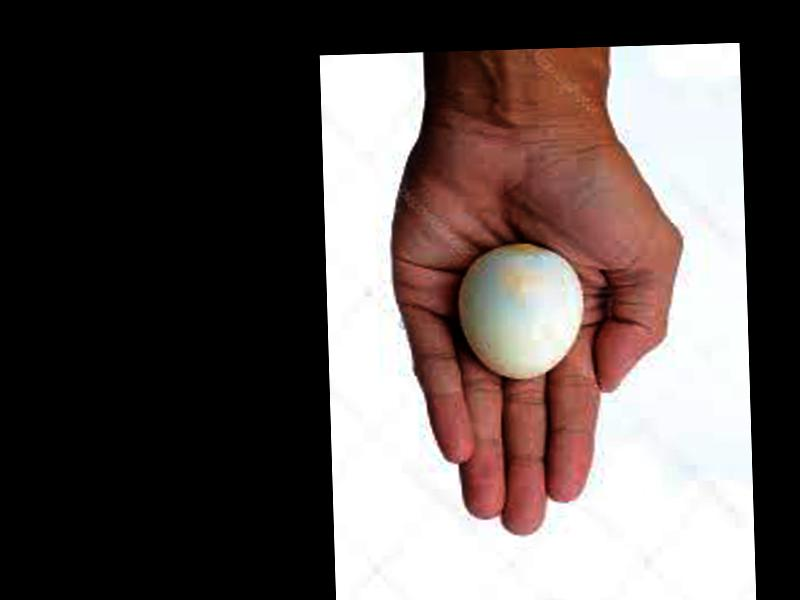Eggs: (458, 242, 583, 383)
